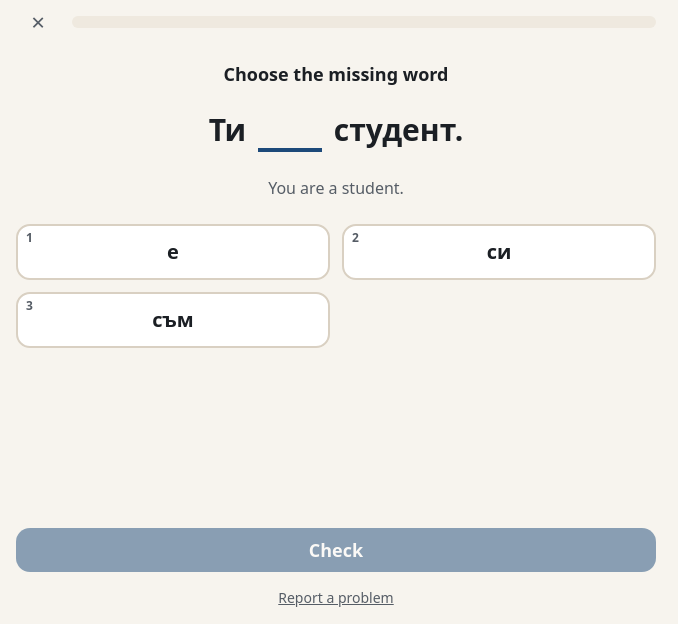
Test case: fill_blank › fills the gap and shows the explanation after checking
This screenshot has width=678, height=624.
Click the button "2 си": point(499, 252) x1=342 y1=224 x2=656 y2=280
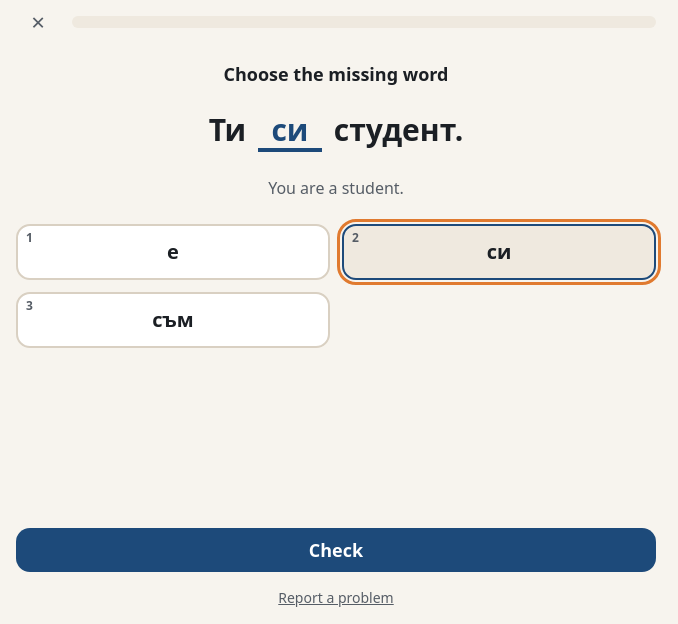
Press Enter
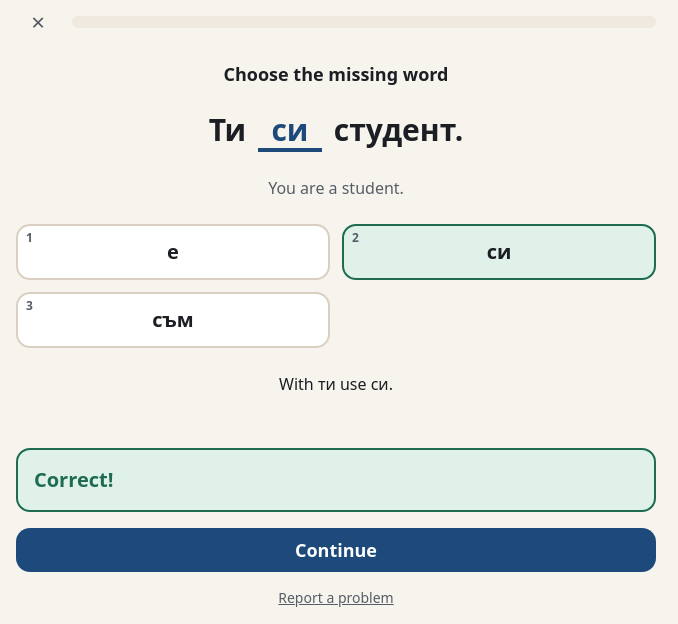
expect the text "With ти use си." is shown: met, box x1=279 y1=372 x2=393 y2=396
